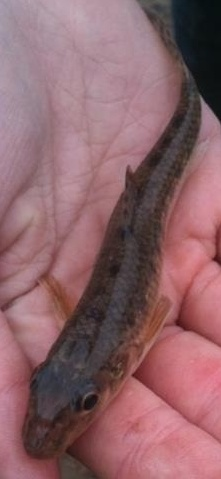Gobio gobio: (20, 20, 201, 459)
